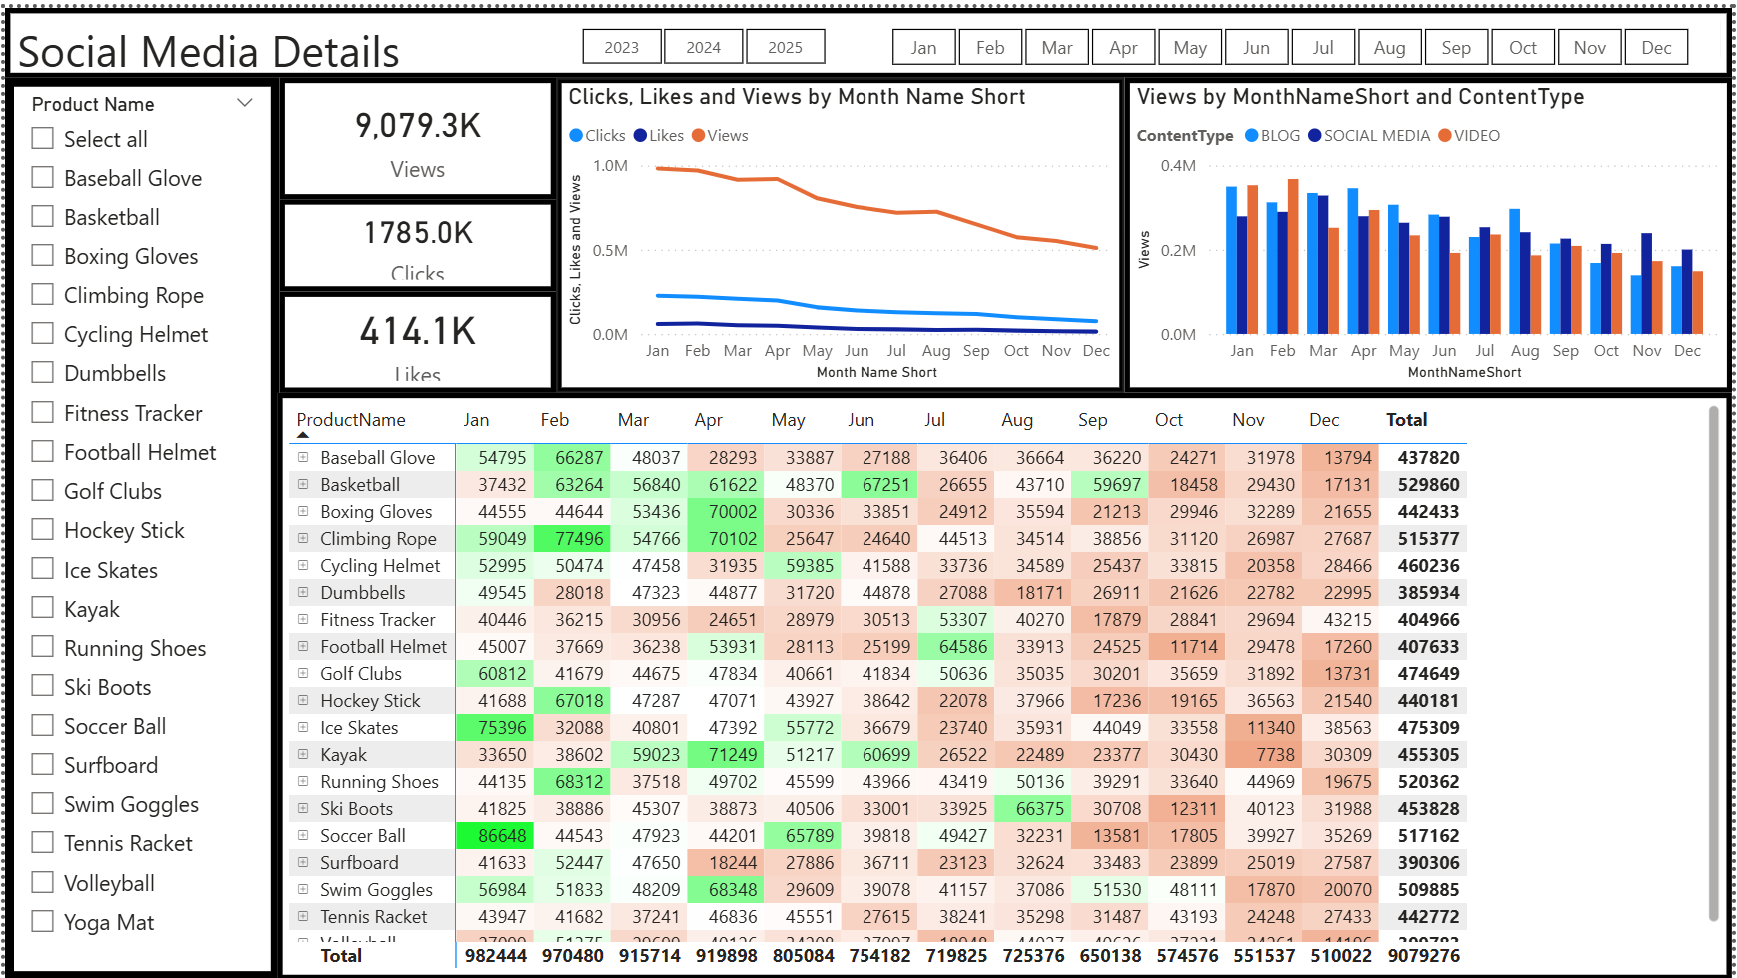

The dashboard page shown, as its layout file describes it:
{"tool":"powerbi","page":{"name":"Social Media Details ","canvas":[1280,720],"ordinal":2},"visuals":[{"type":"textbox","box":[0,0,1280,52],"z":0},{"type":"slicer","fields":{"Values":["dim_products.ProductName"]},"box":[0,51.7,203.3,668.3],"z":1000},{"type":"card","fields":{"Values":["_Calculations.Views"]},"box":[203.3,51.7,205,90],"z":2000},{"type":"card","fields":{"Values":["_Calculations.Likes"]},"box":[203.3,210,205,75],"z":3000},{"type":"card","fields":{"Values":["_Calculations.Clicks"]},"box":[203.3,141.7,205,68.3],"z":4000},{"type":"slicer","fields":{"Values":["Calendar.Year"]},"box":[401.7,8.3,230,36.7],"z":5000},{"type":"slicer","fields":{"Values":["Calendar.MonthNameShort"]},"box":[632.2,7.8,640,36.7],"z":6000},{"type":"lineChart","fields":{"Category":["Calendar.MonthNameShort"],"Y":["_Calculations.Clicks","_Calculations.Likes","_Calculations.Views"]},"box":[408.3,51.7,421.7,233.3],"z":7000},{"type":"pivotTable","fields":{"Values":["_Calculations.Views"],"Rows":["dim_products.ProductName","fact_engagement_data.ContentType"],"Columns":["Calendar.MonthNameShort"]},"box":[201.7,285,1078.3,435],"z":8000},{"type":"clusteredColumnChart","fields":{"Category":["Calendar.MonthNameShort"],"Y":["_Calculations.Views"],"Series":["fact_engagement_data.ContentType"]},"box":[830,51.7,450,233.3],"z":9000}]}

Visuals, with their boxes in screenshot pixels (x1, y1, x2, y2), scaled from the page's 1280x720 canvas onto the 1737x978 screenshot:
textbox: (0, 0, 1736, 71)
slicer - dim_products.ProductName: (0, 70, 276, 977)
card - _Calculations.Views: (276, 70, 554, 192)
card - _Calculations.Likes: (276, 285, 554, 387)
card - _Calculations.Clicks: (276, 192, 554, 285)
slicer - Calendar.Year: (545, 11, 857, 61)
slicer - Calendar.MonthNameShort: (858, 11, 1726, 60)
lineChart - Calendar.MonthNameShort x _Calculations.Clicks: (554, 70, 1126, 387)
pivotTable - _Calculations.Views x dim_products.ProductName: (274, 387, 1736, 977)
clusteredColumnChart - Calendar.MonthNameShort x _Calculations.Views: (1126, 70, 1736, 387)
